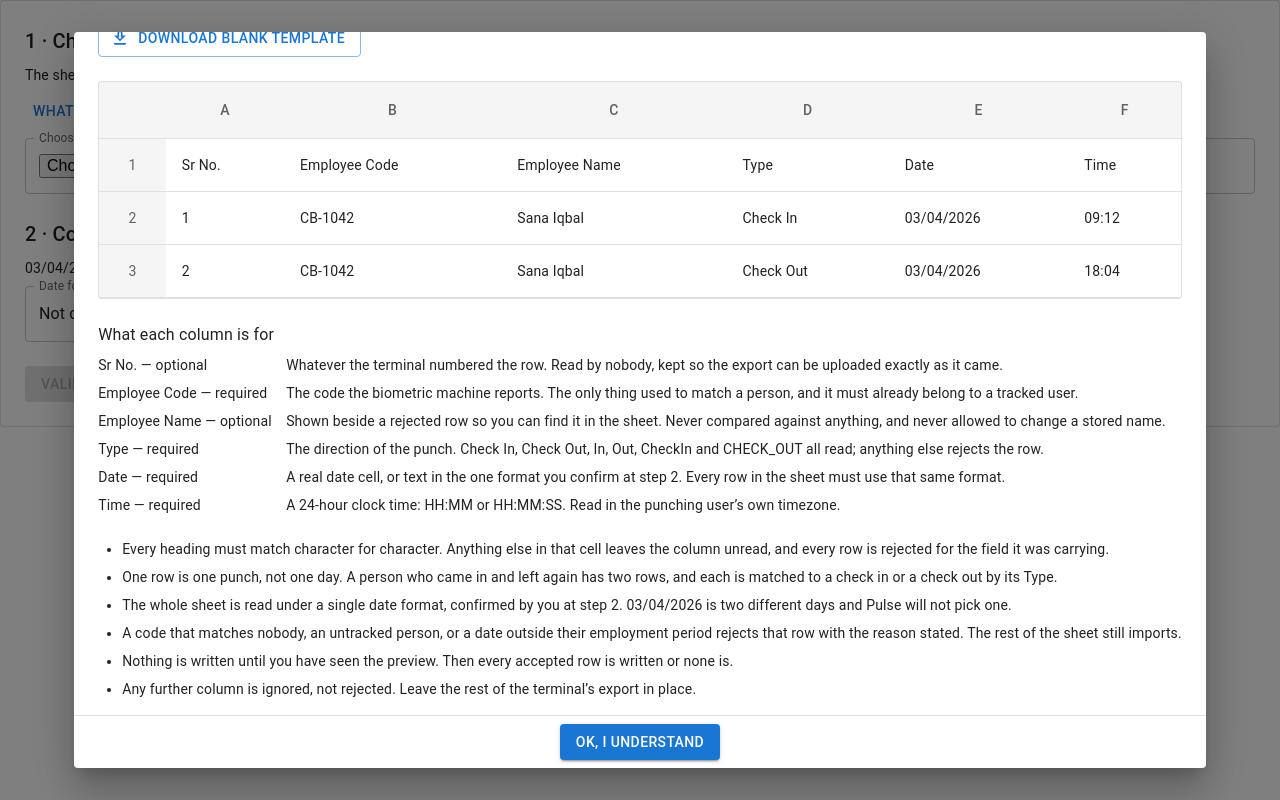
Test: AttendanceImport › offers the guide again after it has been dismissed
(page scrolled)
Click the button "Ok, I understand" at (640, 742), box left=560, top=724, right=720, bottom=760
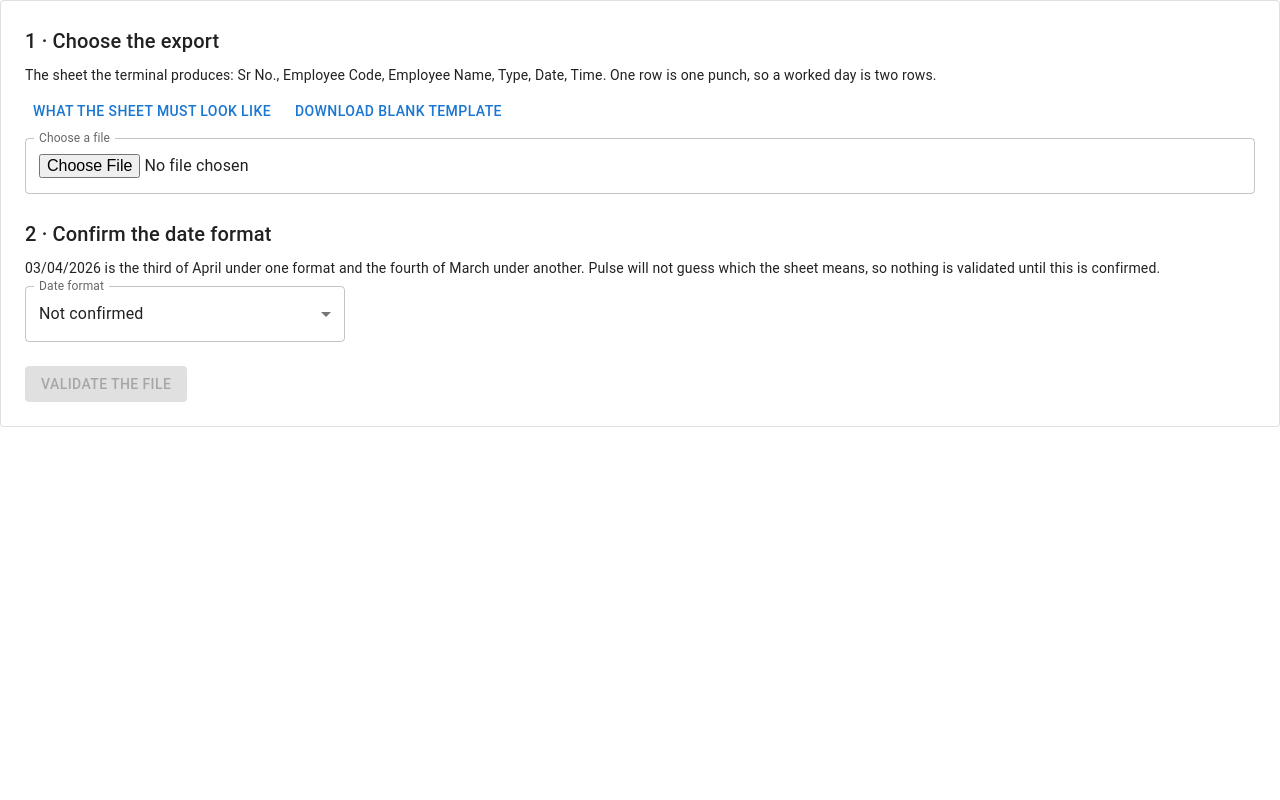
Expected: the dialog is gone
Click the button "What the sheet must look like" at (152, 111), box left=25, top=93, right=279, bottom=130
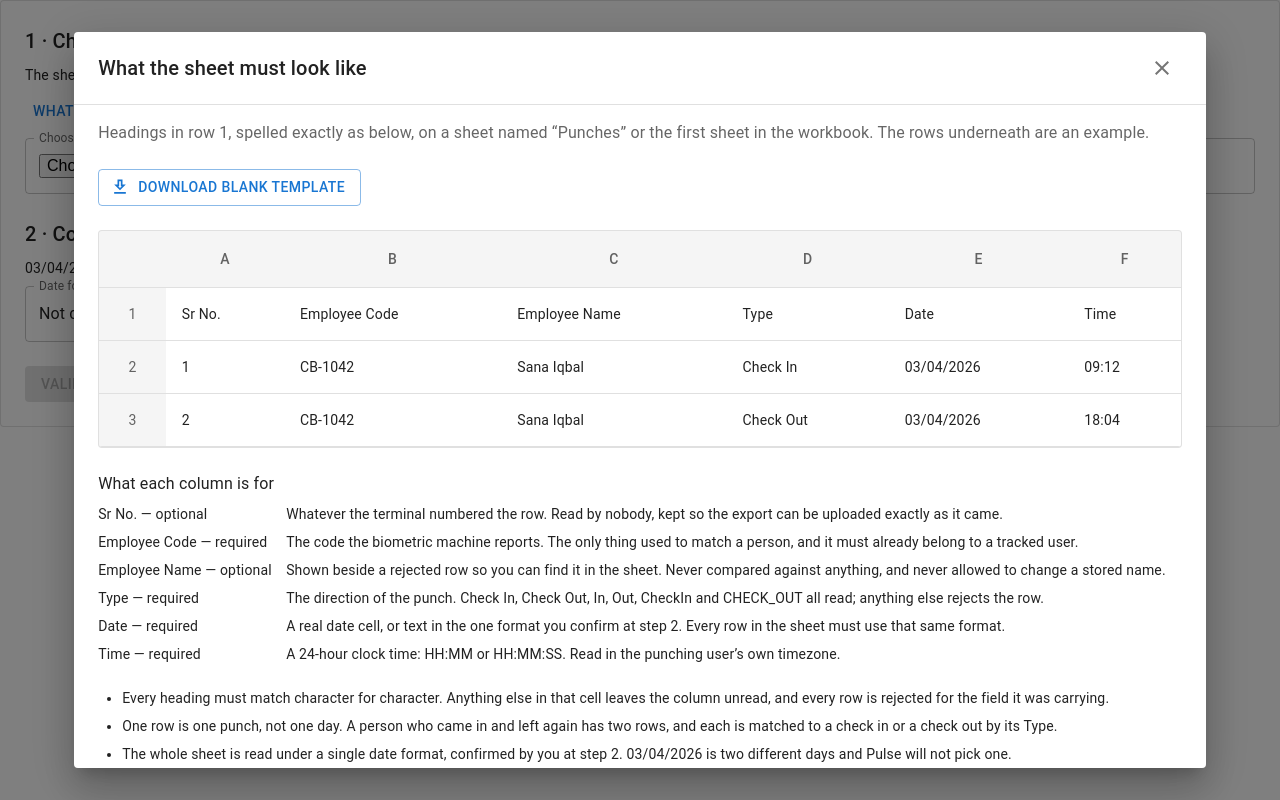
Expected: the dialog is shown
